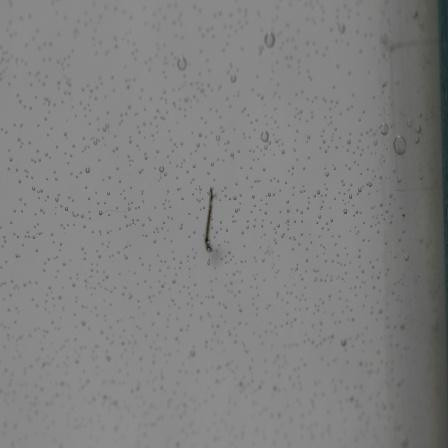Jentik-Nyamuk: (202, 182, 222, 256)
